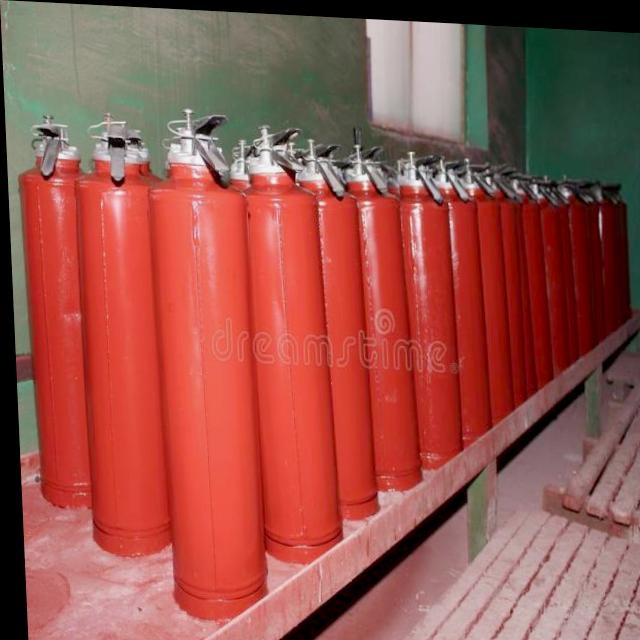FireExtinguisher: (138, 101, 265, 624), (228, 116, 345, 570), (65, 111, 180, 562), (267, 131, 378, 523), (13, 106, 103, 521), (322, 123, 422, 494), (367, 144, 463, 472), (417, 153, 493, 454), (435, 155, 513, 430)
